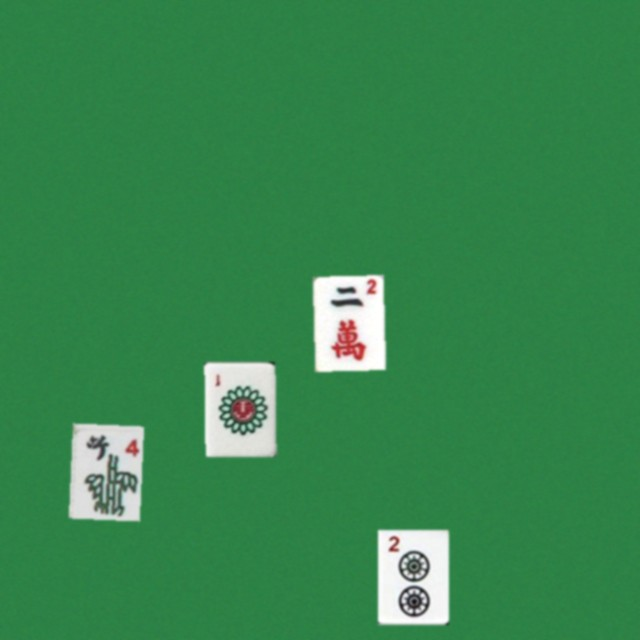tile: (68, 423, 139, 518), (312, 275, 383, 370), (204, 361, 275, 456), (377, 529, 448, 624)
